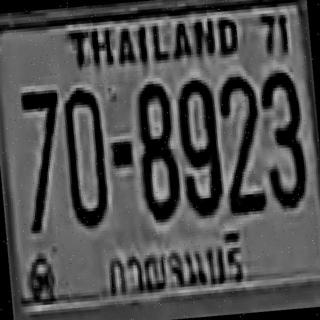N00: (60, 84, 108, 226)
N02: (217, 73, 265, 214)
N03: (256, 67, 306, 206)
N07: (17, 87, 67, 231)
N08: (132, 80, 180, 221)
N09: (174, 76, 222, 214)
P17: (102, 223, 248, 306)
